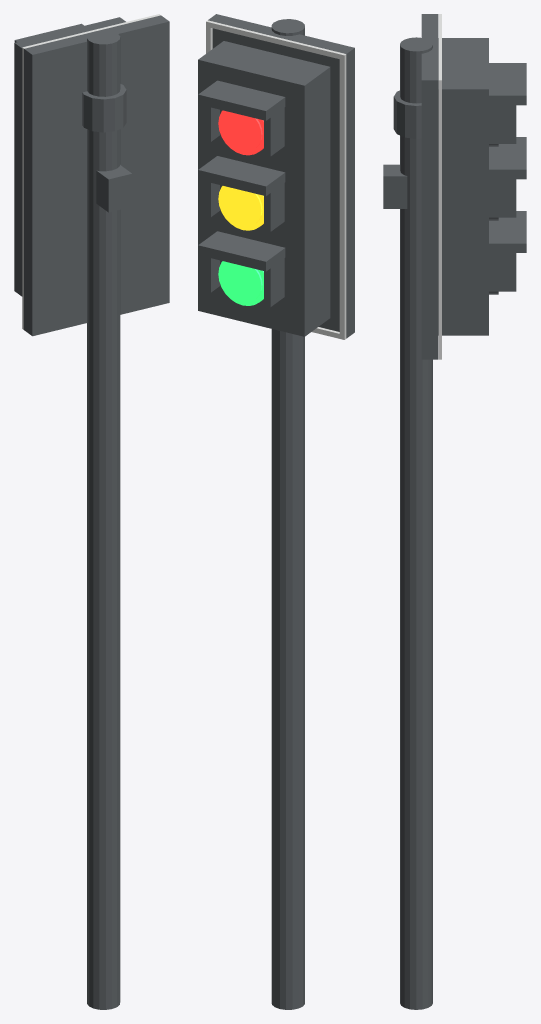
File: Polish_road_traffic_signal_three_aspect.glb
The picture shows the model from 3 angles, left to right: view 1: azimuth 30°, elevation 25°; view 2: azimuth 150°, elevation 25°; view 3: azimuth 270°, elevation 25°; orthographic projection.
Parts seen in each view (by area): view 1: Backing_Board, Signal_Pole_3p5m, Three_Aspect_Housing, Pole_Top_Collar, Rear_Mounting_Bracket, Border_Left; view 2: Signal_Pole_3p5m, Three_Aspect_Housing, Backing_Board, Border_Left, Visor_2_Top, Visor_3_Top, Visor_1_Top, Green_Lens_Optic, Amber_Lens_Optic, Red_Lens_Optic, Border_Top, Visor_1_Left (+8 smaller); view 3: Signal_Pole_3p5m, Three_Aspect_Housing, Backing_Board, Visor_1_Top, Visor_2_Top, Visor_3_Top, Border_Right, Visor_1_Right, Visor_2_Right, Visor_3_Right, Pole_Top_Collar, Rear_Mounting_Bracket.
Boxes of the visible parts, <box> form: Backing_Board: <box>24,15,169,336</box>; Signal_Pole_3p5m: <box>87,30,120,1009</box>; Three_Aspect_Housing: <box>14,17,125,296</box>; Pole_Top_Collar: <box>82,84,126,132</box>; Rear_Mounting_Bracket: <box>96,165,132,212</box>; Border_Left: <box>22,47,26,329</box>; Signal_Pole_3p5m: <box>271,19,304,1009</box>; Three_Aspect_Housing: <box>198,41,330,336</box>; Backing_Board: <box>208,14,354,338</box>; Border_Left: <box>339,53,346,339</box>; Visor_2_Top: <box>198,156,285,195</box>; Visor_3_Top: <box>198,231,285,271</box>; Visor_1_Top: <box>198,80,285,120</box>; Green_Lens_Optic: <box>221,262,262,302</box>; Amber_Lens_Optic: <box>221,187,262,226</box>; Red_Lens_Optic: <box>221,111,262,151</box>; Border_Top: <box>206,20,346,60</box>; Visor_1_Left: <box>264,107,284,156</box>; Signal_Pole_3p5m: <box>400,37,432,1009</box>; Three_Aspect_Housing: <box>438,38,488,335</box>; Backing_Board: <box>421,14,438,359</box>; Visor_1_Top: <box>489,63,526,105</box>; Visor_2_Top: <box>489,137,526,179</box>; Visor_3_Top: <box>489,211,526,252</box>; Border_Right: <box>438,78,441,359</box>; Visor_1_Right: <box>489,105,516,143</box>; Visor_2_Right: <box>489,179,516,217</box>; Visor_3_Right: <box>489,253,516,291</box>; Pole_Top_Collar: <box>393,90,421,138</box>; Rear_Mounting_Bracket: <box>383,164,407,208</box>.
Size of the model in its own units: 0.52 by 3.5 by 0.475.
